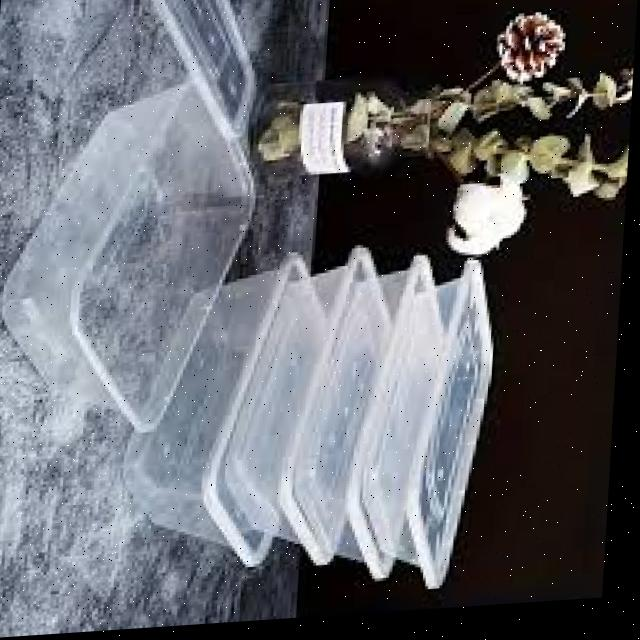disposable: (0, 72, 263, 439), (225, 243, 393, 575), (358, 269, 525, 594)
